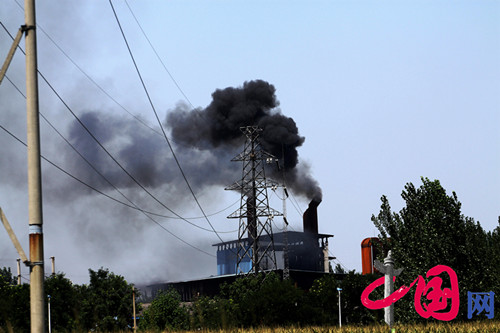dust: (162, 74, 327, 211)
